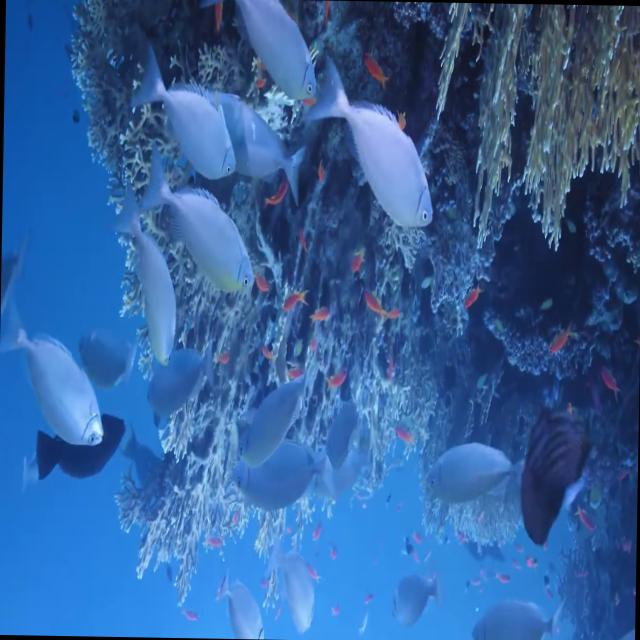fish: (301, 47, 438, 236), (134, 155, 264, 307), (0, 301, 112, 463), (132, 34, 242, 185), (516, 389, 605, 562), (105, 185, 179, 372), (203, 0, 321, 111), (212, 96, 320, 216), (229, 356, 320, 481), (412, 436, 532, 525), (23, 406, 129, 494), (226, 439, 329, 522), (461, 579, 570, 640), (272, 526, 330, 640), (204, 563, 277, 639), (386, 560, 446, 634)
